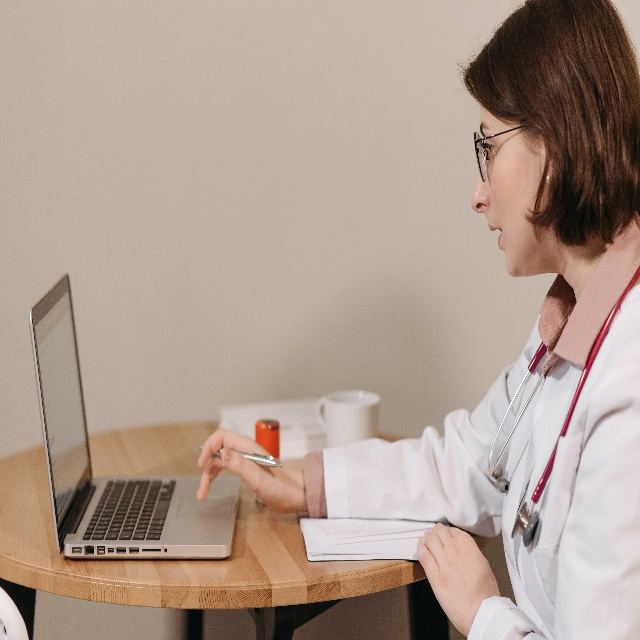Gafas: (472, 119, 533, 182)
Sin_guantes: (415, 524, 498, 629), (199, 425, 293, 514)
